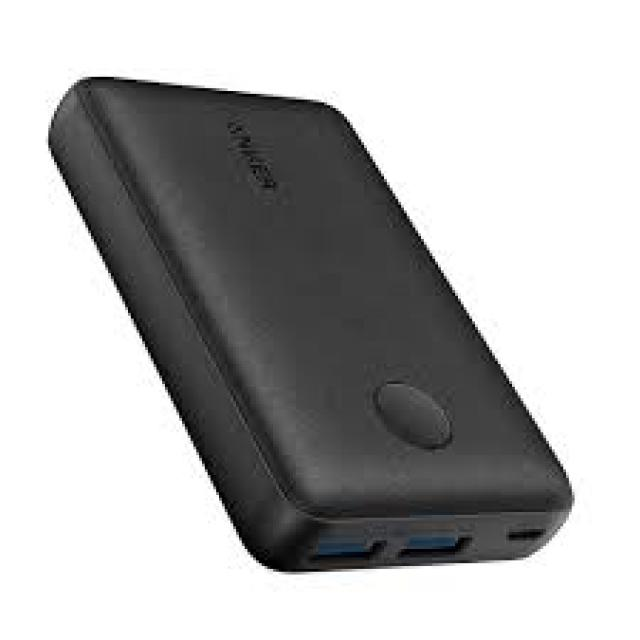portable-charger: (44, 63, 584, 576)
